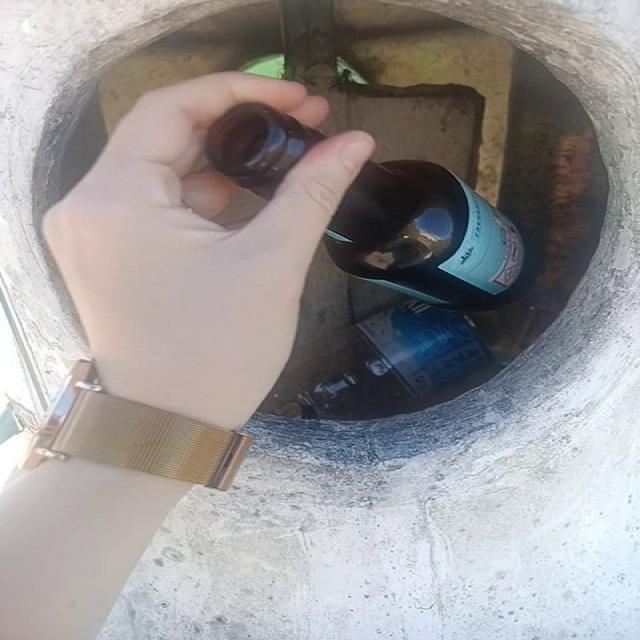glass: (325, 160, 525, 311), (205, 103, 327, 198)
